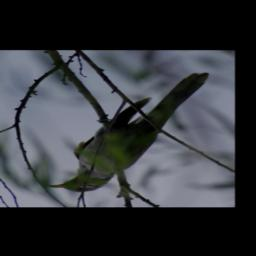Cuckoo: (49, 71, 218, 193)
